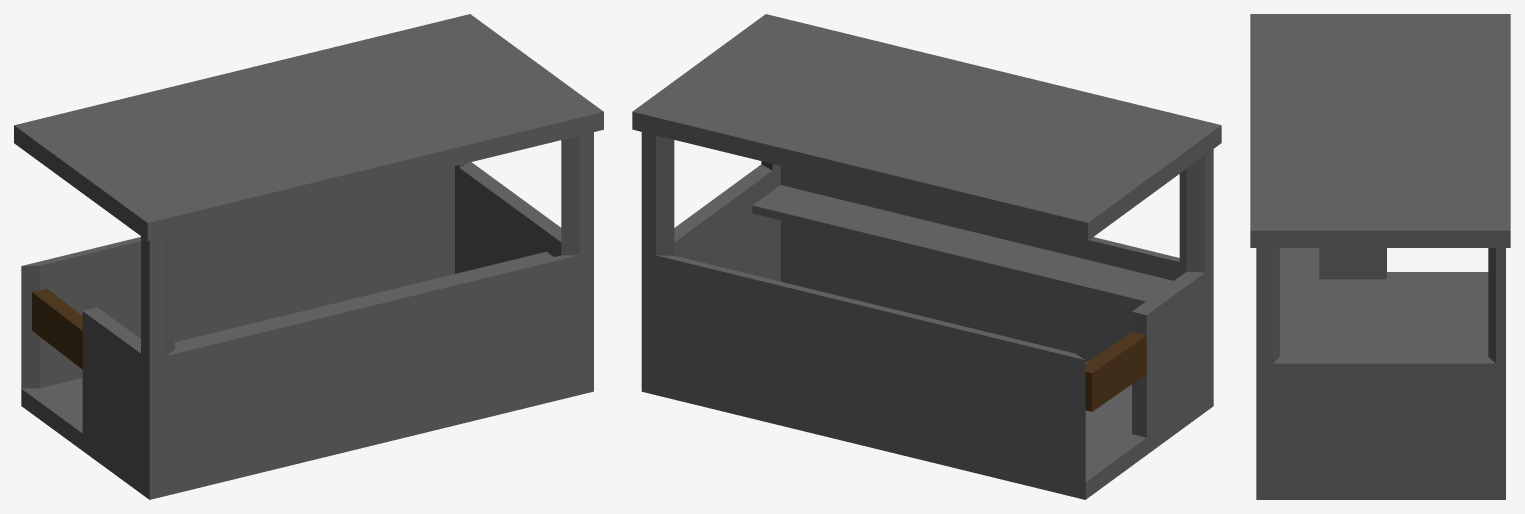
3 renders of one model, left to right at view 1: azimuth 30°, elevation 25°; view 2: azimuth 150°, elevation 25°; view 3: azimuth 270°, elevation 25°, orthographic. The views are drawn at different scales.
Visible parts, largest first — view 1: Cube.013; view 2: Cube.013; view 3: Cube.013.
Part boxes in pixels (x1,y1,x2,y2): Cube.013: [14, 14, 603, 499]; Cube.013: [632, 14, 1221, 499]; Cube.013: [1250, 14, 1510, 499].
Size of the model in its own units: 527 by 309 by 267.
